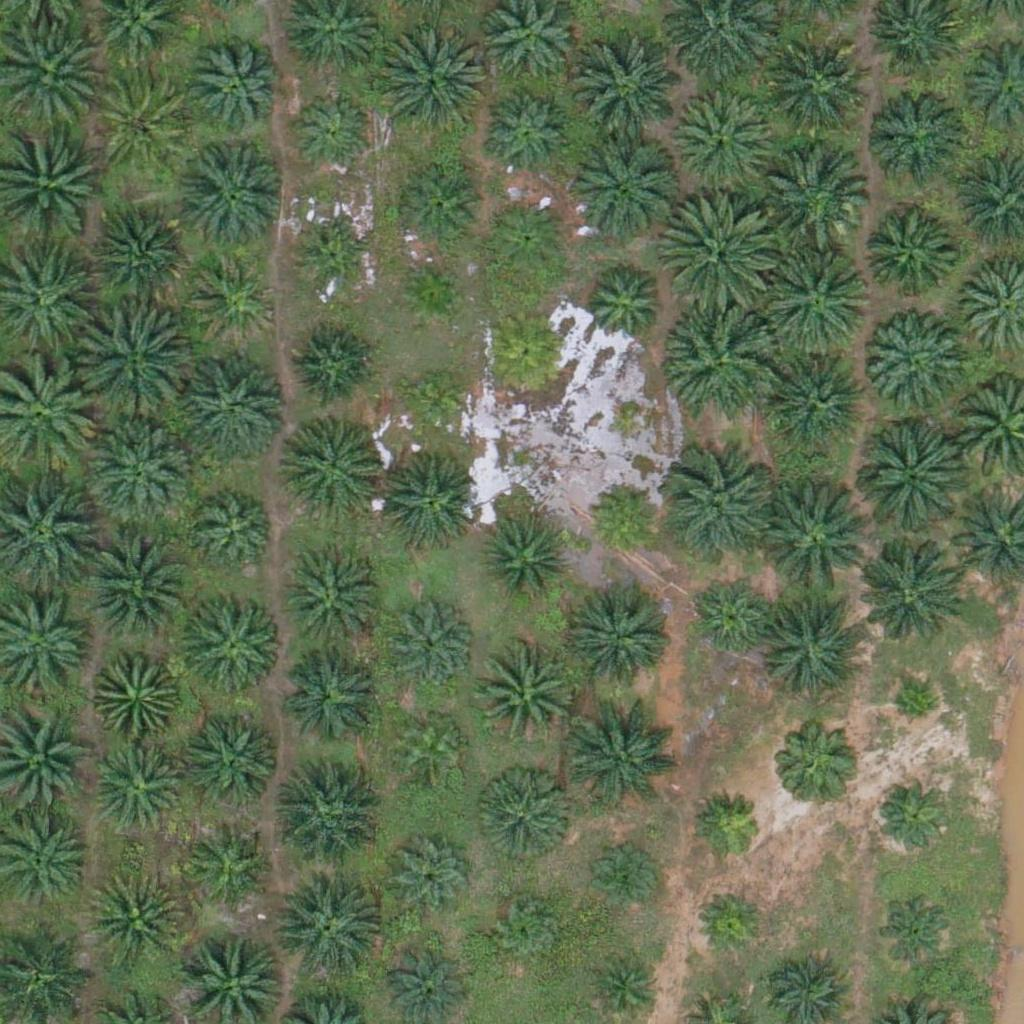Kelapa_Sawit: (852, 421, 965, 534), (849, 538, 962, 651), (667, 302, 780, 415), (664, 450, 777, 563), (757, 138, 870, 251), (374, 24, 487, 137), (86, 413, 198, 527), (756, 480, 868, 594), (760, 239, 872, 353), (662, 191, 774, 305), (73, 307, 185, 420), (78, 528, 190, 641), (176, 348, 288, 461), (267, 759, 379, 872), (268, 873, 380, 986), (569, 699, 681, 812), (761, 590, 873, 703), (175, 138, 287, 251), (571, 37, 683, 150), (566, 130, 678, 243), (84, 870, 184, 971), (183, 714, 283, 815), (182, 590, 282, 691), (284, 554, 384, 655), (282, 645, 382, 746), (375, 452, 475, 553), (474, 645, 574, 746), (571, 584, 671, 685), (857, 204, 957, 305), (864, 312, 964, 413), (673, 92, 773, 193), (184, 37, 284, 138), (88, 208, 188, 308), (281, 416, 381, 516), (475, 764, 575, 864), (771, 350, 871, 450), (869, 82, 969, 182), (764, 41, 864, 141), (93, 74, 193, 174), (482, 306, 570, 395), (873, 887, 961, 976), (688, 576, 776, 664), (482, 193, 570, 281), (95, 740, 183, 828), (189, 815, 277, 903), (389, 830, 477, 918), (773, 713, 861, 801), (287, 91, 375, 179), (484, 89, 571, 178), (190, 256, 277, 344), (93, 648, 180, 736), (194, 490, 281, 578), (289, 320, 376, 408), (387, 597, 474, 685), (481, 517, 568, 605), (871, 769, 958, 857), (578, 261, 665, 349), (393, 163, 480, 251), (585, 478, 660, 554), (588, 840, 663, 916), (393, 255, 468, 331), (397, 363, 472, 439), (299, 226, 374, 301), (693, 790, 768, 865), (394, 711, 469, 786), (492, 895, 567, 970), (693, 886, 768, 961), (890, 684, 940, 734)
